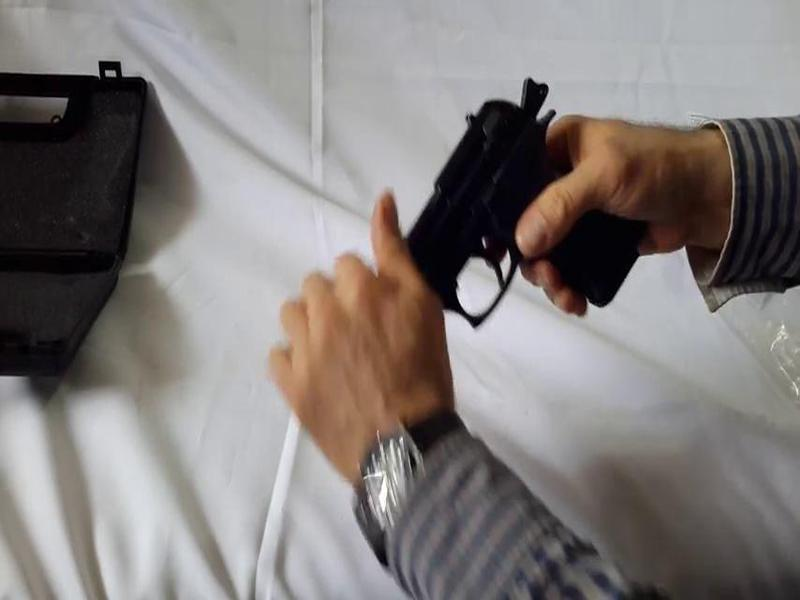Pistola: (359, 49, 654, 360)
